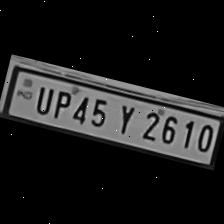0: (191, 118, 217, 154)
1: (174, 114, 198, 150)
2: (133, 105, 163, 143)
4: (66, 89, 92, 126)
5: (82, 92, 113, 131)
6: (154, 109, 182, 147)
P: (46, 85, 72, 121)
U: (29, 80, 56, 115)
Y: (108, 99, 140, 138)
